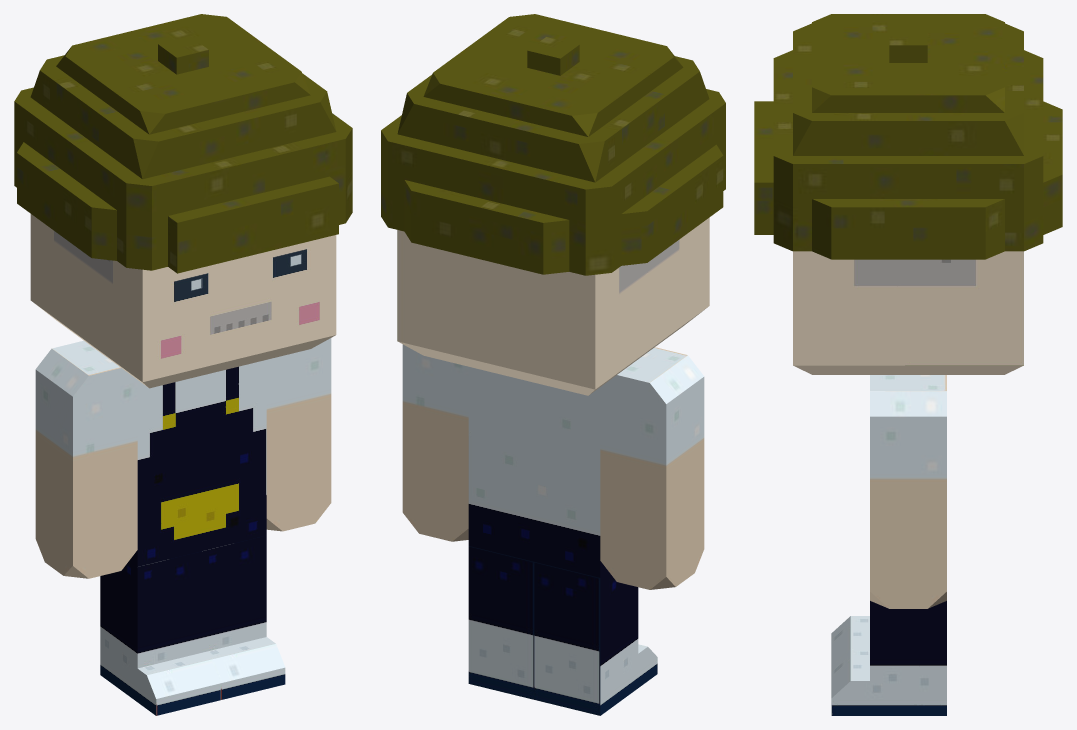
File: NPC SBS.FBX
3 views of the same model, side by side, from view 1: azimuth 30°, elevation 25°; view 2: azimuth 150°, elevation 25°; view 3: azimuth 270°, elevation 25° (orthographic). The views are drawn at different scales.
Visible parts, largest first — view 1: Box030, Box004, Box011, Box022, Box008, Box006; view 2: Box030, Box004, Box011, Box022, Box008, Box006; view 3: Box030, Box008, Box006, Box022.
Boxes of the visible parts, <box> form: Box030: <box>14,14,352,388</box>; Box004: <box>129,360,266,566</box>; Box011: <box>35,340,137,578</box>; Box022: <box>100,551,220,715</box>; Box008: <box>266,338,331,531</box>; Box006: <box>202,535,285,699</box>; Box030: <box>381,14,725,395</box>; Box004: <box>468,367,608,577</box>; Box011: <box>600,347,704,589</box>; Box022: <box>534,562,657,715</box>; Box008: <box>402,344,468,541</box>; Box006: <box>468,546,534,699</box>; Box030: <box>754,14,1062,374</box>; Box008: <box>870,375,946,608</box>; Box006: <box>831,601,946,715</box>; Box022: <box>831,616,869,665</box>.
Bounding box in the file's own units: 240 × 555 × 240.
